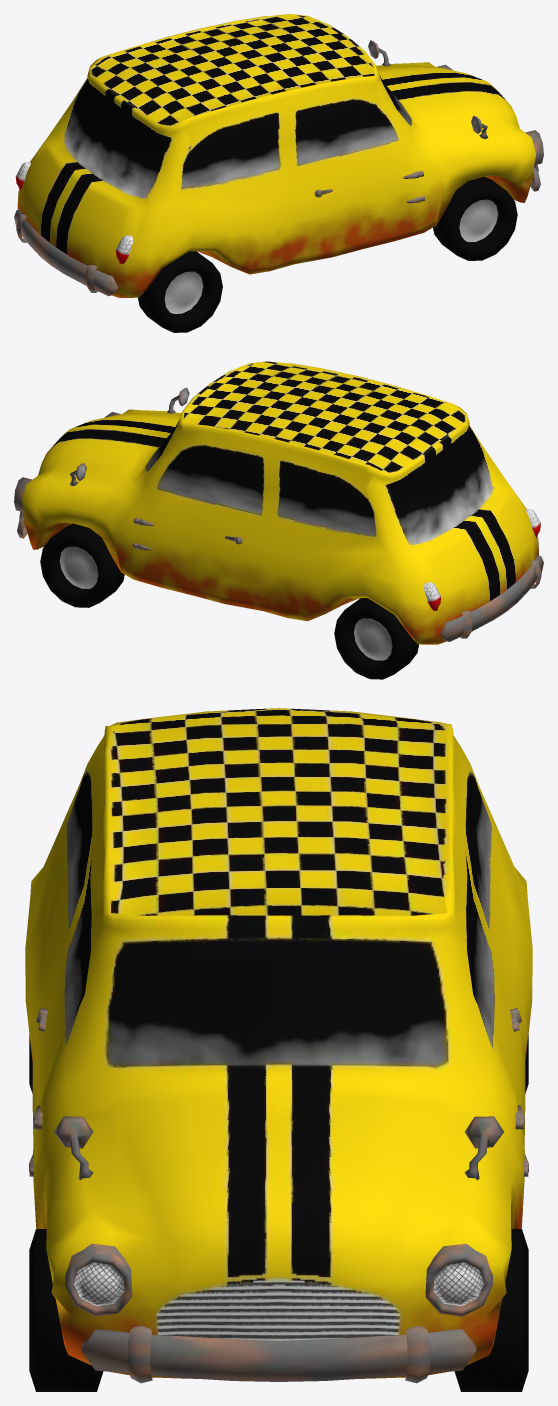
Rendered from caryellowvariant.glb.
The picture shows the model from 3 angles, top to bottom: view 1: azimuth 30°, elevation 25°; view 2: azimuth 150°, elevation 25°; view 3: azimuth 270°, elevation 25°; orthographic projection. The views are drawn at different scales.
Visible parts, largest first — view 1: caryellowvariant; view 2: caryellowvariant; view 3: caryellowvariant.
Boxes of the visible parts, x1=… form: caryellowvariant: x1=14, y1=14, x2=543, y2=332; caryellowvariant: x1=14, y1=361, x2=543, y2=679; caryellowvariant: x1=25, y1=708, x2=532, y2=1391.
Size of the model in its own units: 8.13 by 3.46 by 3.93.
Materials: 1 (1 with a texture image).
